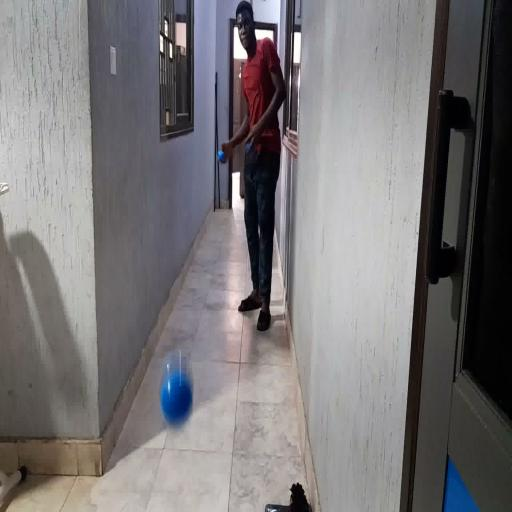plastic-ball: (157, 347, 195, 434)
